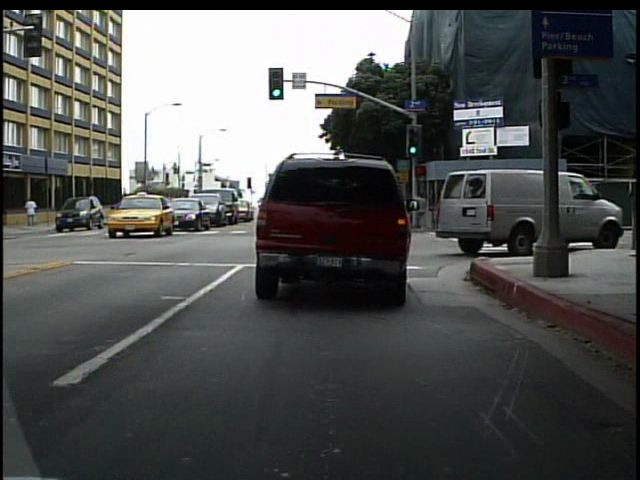person: (498, 174, 521, 237), (22, 195, 40, 230)
